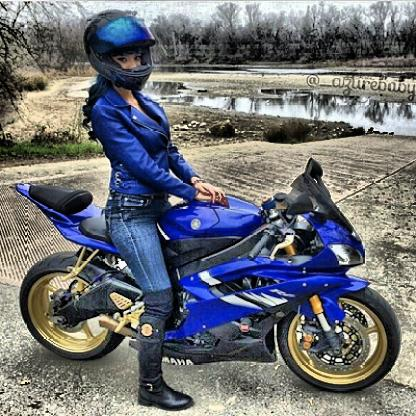wear: (85, 15, 150, 91)
